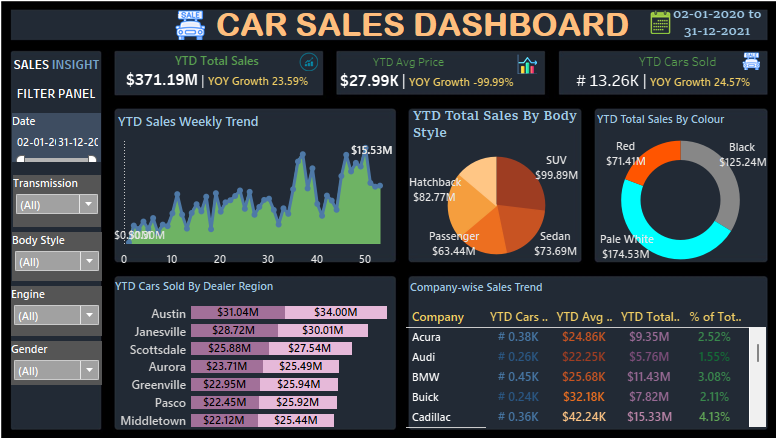

Layout of this report page (visuals, bound fields, positions):
{"tool":"tableau","page":{"name":"Dashboard 1","canvas":[1000,800],"ordinal":0},"visuals":[{"type":"text","box":[377,50,463,39]},{"type":"image","param":"C:/Users/hp/Downloads/calendar-green-icon-png-17.png","box":[812,52,24,30]},{"type":"worksheet","title":"Date Range","mark":"Automatic","box":[815,54,133,30]},{"type":"image","param":"C:/Users/hp/Downloads/2155746.png","box":[332,55,44,30]},{"type":"worksheet","title":"YTD Total Sales","mark":"Automatic","box":[275,93,213,48]},{"type":"text","box":[175,94,90,30]},{"type":"worksheet","title":"YTD Avg Price","mark":"Automatic","box":[500,94,211,47]},{"type":"worksheet","title":"YTD Cars Sold","mark":"Automatic","box":[724,94,207,47]},{"type":"image","param":"C:/Users/hp/Downloads/sales-icon-10.png","box":[459,97,27,19]},{"type":"image","param":"C:/Users/hp/Downloads/2155746.png","box":[906,97,19,18]},{"type":"image","param":"C:/Users/hp/Downloads/average.png","box":[681,99,21,20]},{"type":"text","box":[175,123,90,30]},{"type":"worksheet","title":"YTD Total Sales By Body Style","mark":"Pie","box":[573,151,175,154]},{"type":"worksheet","title":"YTD Total Sales By Colour ","mark":"Pie","rows":["Calculation_885238852058447882","Calculation_885238852058447882"],"box":[757,152,175,156]},{"type":"worksheet","title":"YTD Sales Weekly Trend","mark":"Area","rows":["Calculation_885238851999842304","Calculation_885238851999842304"],"cols":["Date"],"box":[278,153,280,155]},{"type":"filter","title":"YTD Sales Weekly Trend","param":"[federated.1b7owpm0fgoqfn1fvjn9o0znm96e].[none:Date:qk]","box":[176,158,89,49]},{"type":"filter","title":"YTD Sales Weekly Trend","param":"[federated.1b7owpm0fgoqfn1fvjn9o0znm96e].[none:Transmission:nk]","box":[177,220,88,52]},{"type":"filter","title":"YTD Sales Weekly Trend","param":"[federated.1b7owpm0fgoqfn1fvjn9o0znm96e].[none:Body Style:nk]","box":[176,277,90,49]},{"type":"worksheet","title":"YTD Cars Sold By Dealer Region","mark":"Automatic","rows":["Dealer_Region"],"cols":["Calculation_885238851999842304"],"box":[275,319,286,155]},{"type":"worksheet","title":"Company-wise Sales Trend","mark":"Automatic","rows":["Company"],"box":[570,320,360,153]},{"type":"filter","title":"YTD Sales Weekly Trend","param":"[federated.1b7owpm0fgoqfn1fvjn9o0znm96e].[none:Engine:nk]","box":[175,331,91,50]},{"type":"filter","title":"YTD Sales Weekly Trend","param":"[federated.1b7owpm0fgoqfn1fvjn9o0znm96e].[none:Gender:nk]","box":[175,386,91,44]}]}

Visuals, with their boxes on the page's 1000x800 design canvas (x1, y1, x2, y2). These are canvas units, not pixel positions in the 776x438 screenshot, which may show the page scaled, cropped or inside an application window:
text: bbox(377, 50, 840, 89)
image: bbox(812, 52, 836, 82)
"Date Range" worksheet: bbox(815, 54, 948, 84)
image: bbox(332, 55, 376, 85)
"YTD Total Sales" worksheet: bbox(275, 93, 488, 141)
text: bbox(175, 94, 265, 124)
"YTD Avg Price" worksheet: bbox(500, 94, 711, 141)
"YTD Cars Sold" worksheet: bbox(724, 94, 931, 141)
image: bbox(459, 97, 486, 116)
image: bbox(906, 97, 925, 115)
image: bbox(681, 99, 702, 119)
text: bbox(175, 123, 265, 153)
"YTD Total Sales By Body Style" worksheet (Pie marks): bbox(573, 151, 748, 305)
"YTD Total Sales By Colour " worksheet (Pie marks): bbox(757, 152, 932, 308)
"YTD Sales Weekly Trend" worksheet (Area marks): bbox(278, 153, 558, 308)
"YTD Sales Weekly Trend" filter: bbox(176, 158, 265, 207)
"YTD Sales Weekly Trend" filter: bbox(177, 220, 265, 272)
"YTD Sales Weekly Trend" filter: bbox(176, 277, 266, 326)
"YTD Cars Sold By Dealer Region" worksheet: bbox(275, 319, 561, 474)
"Company-wise Sales Trend" worksheet: bbox(570, 320, 930, 473)
"YTD Sales Weekly Trend" filter: bbox(175, 331, 266, 381)
"YTD Sales Weekly Trend" filter: bbox(175, 386, 266, 430)
